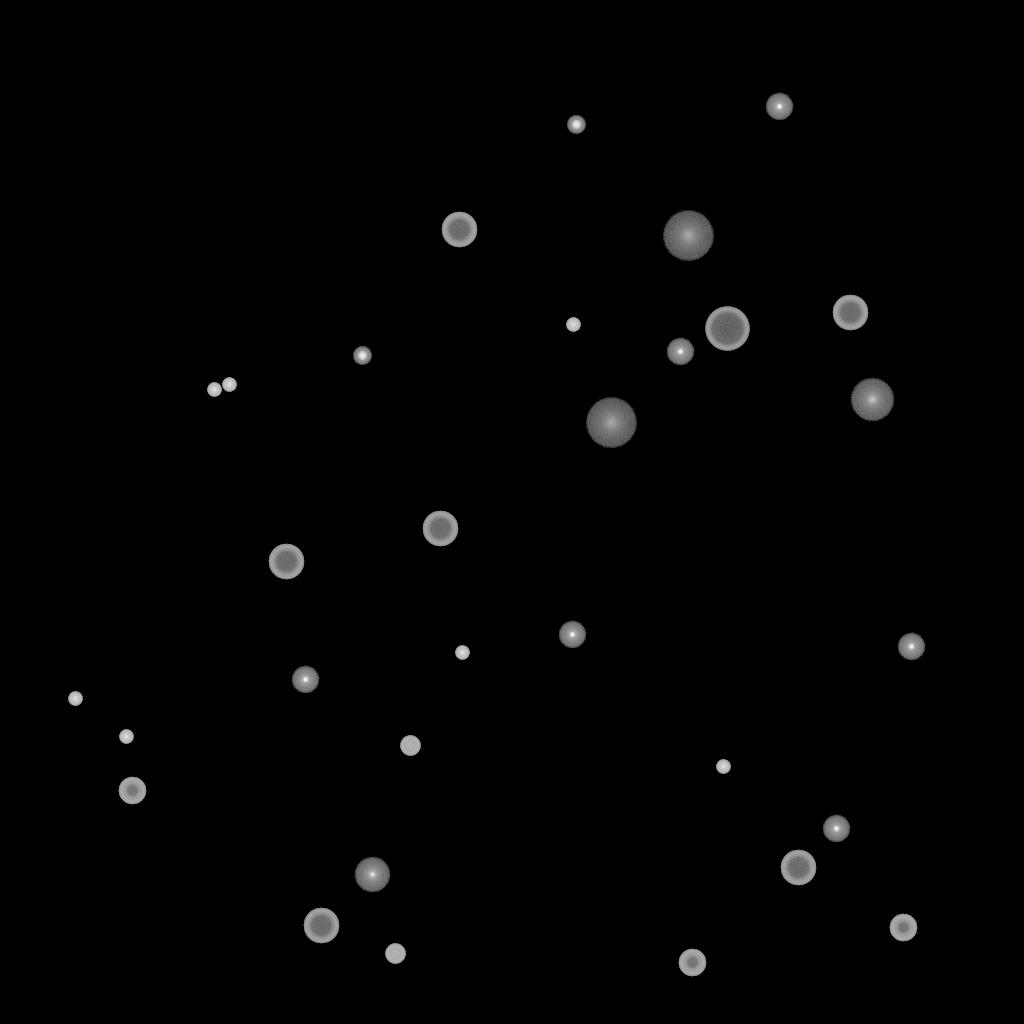depth:-10: (897, 633, 925, 661), (291, 666, 319, 694), (822, 815, 850, 843), (666, 338, 694, 366), (765, 93, 793, 121), (558, 621, 586, 649)
depth:-20: (353, 347, 371, 365), (567, 116, 585, 134)
depth:-30: (716, 760, 730, 774), (455, 646, 469, 660), (119, 730, 133, 744), (566, 318, 580, 332), (68, 692, 82, 706), (207, 383, 221, 397), (222, 378, 236, 392)
depth:-40: (400, 736, 420, 756), (385, 944, 405, 964)
depth:-50: (889, 914, 917, 942), (678, 949, 706, 977), (118, 777, 146, 805)
depth:-60: (268, 544, 304, 580), (832, 295, 868, 331), (303, 908, 339, 944), (780, 850, 816, 886), (422, 511, 458, 547), (441, 212, 477, 248)
depth:-70: (705, 307, 749, 351)
depth:0: (354, 857, 390, 893)
depth:10: (850, 378, 894, 422)
depth:20: (662, 211, 714, 261), (585, 398, 637, 448)
